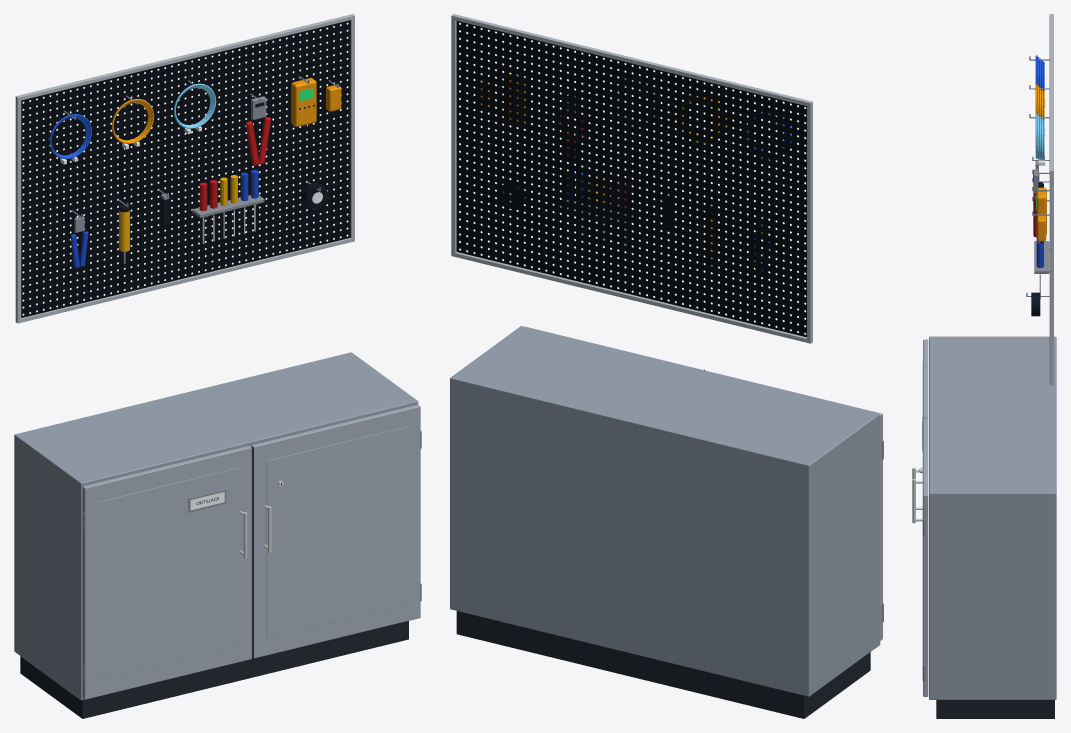
The model's file is tool-wall.glb.
The picture shows the model from 3 angles, left to right: view 1: azimuth 30°, elevation 25°; view 2: azimuth 150°, elevation 25°; view 3: azimuth 270°, elevation 25°; orthographic projection. The views are drawn at different scales.
Parts seen in each view (by area): view 1: ToolWall, pegboard; view 2: ToolWall, pegboard; view 3: ToolWall.
Boxes of the visible parts, <box> form: ToolWall: <box>14,14,421,718</box>; pegboard: <box>21,20,350,317</box>; ToolWall: <box>450,14,883,718</box>; pegboard: <box>456,21,806,337</box>; ToolWall: <box>912,14,1056,718</box>.
Size of the model in its own units: 1.25 by 2.05 by 0.486.
20 materials, 1 textured.
